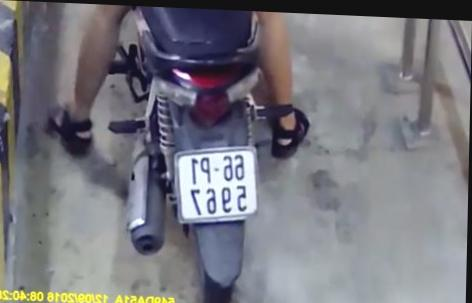License_Plate: (167, 138, 265, 236)
